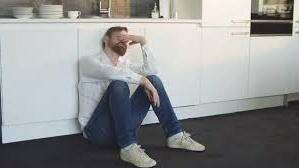not_fallen: (74, 24, 208, 166)
